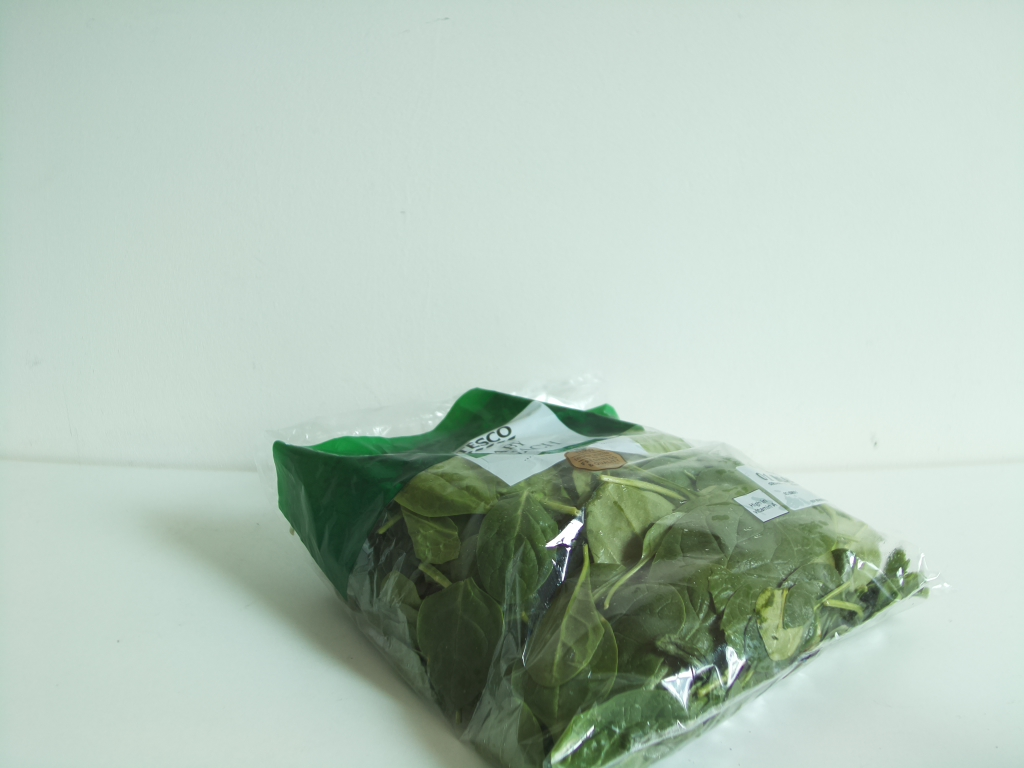salad: (268, 384, 945, 768)
